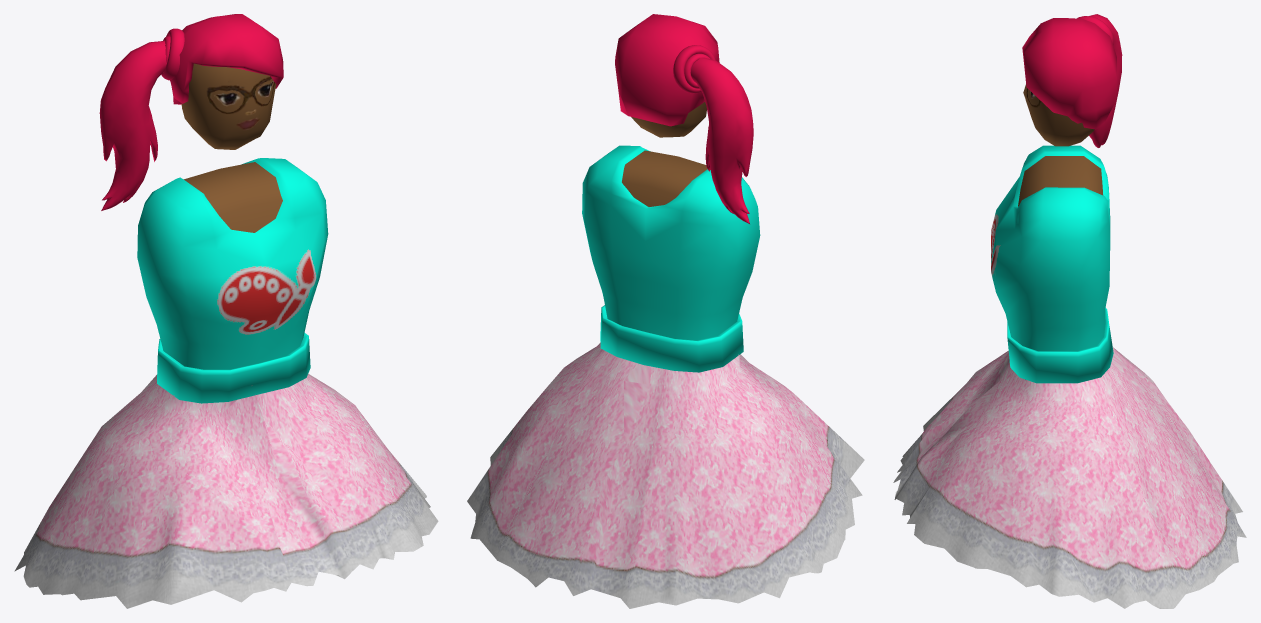
The model's file is Avatar8.fbx.
The picture shows the model from 3 angles, left to right: view 1: azimuth 30°, elevation 25°; view 2: azimuth 150°, elevation 25°; view 3: azimuth 270°, elevation 25°; orthographic projection. The views are drawn at different scales.
Visible parts, largest first — view 1: Skirt8, Body8, Hair8, Head8; view 2: Skirt8, Body8, Hair8, Head8; view 3: Skirt8, Body8, Hair8, Head8.
Boxes of the visible parts, left/top/right/bottom form: Skirt8: left=14, top=374, right=438, bottom=608; Body8: left=137, top=158, right=328, bottom=403; Hair8: left=99, top=14, right=283, bottom=210; Head8: left=181, top=63, right=276, bottom=149; Skirt8: left=467, top=342, right=864, bottom=608; Body8: left=582, top=145, right=760, bottom=372; Hair8: left=615, top=14, right=753, bottom=223; Head8: left=631, top=102, right=706, bottom=137; Skirt8: left=893, top=347, right=1246, bottom=608; Body8: left=991, top=145, right=1113, bottom=383; Hair8: left=1022, top=14, right=1122, bottom=147; Head8: left=1023, top=84, right=1094, bottom=146.
Bounding box in the file's own units: 0.8725 × 1.22 × 0.7614.
